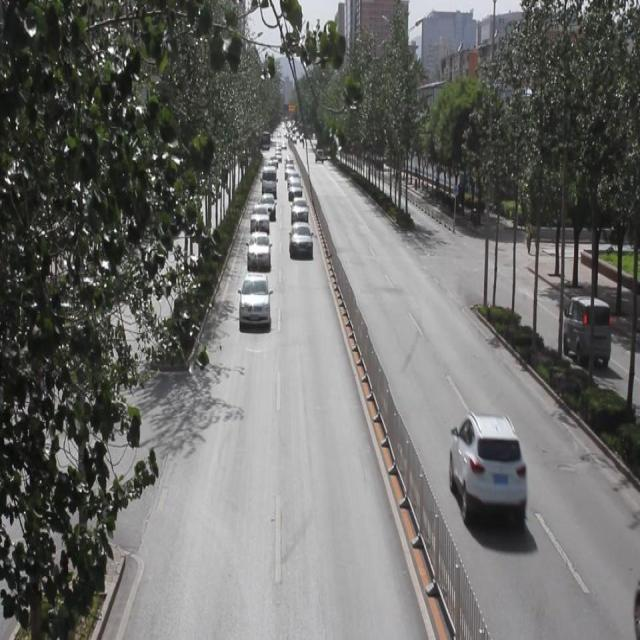car: (449, 412, 526, 533), (239, 272, 270, 330), (247, 231, 270, 272), (290, 222, 312, 258), (290, 196, 310, 225), (250, 204, 269, 232), (259, 192, 276, 220)
truck: (561, 293, 608, 367)
